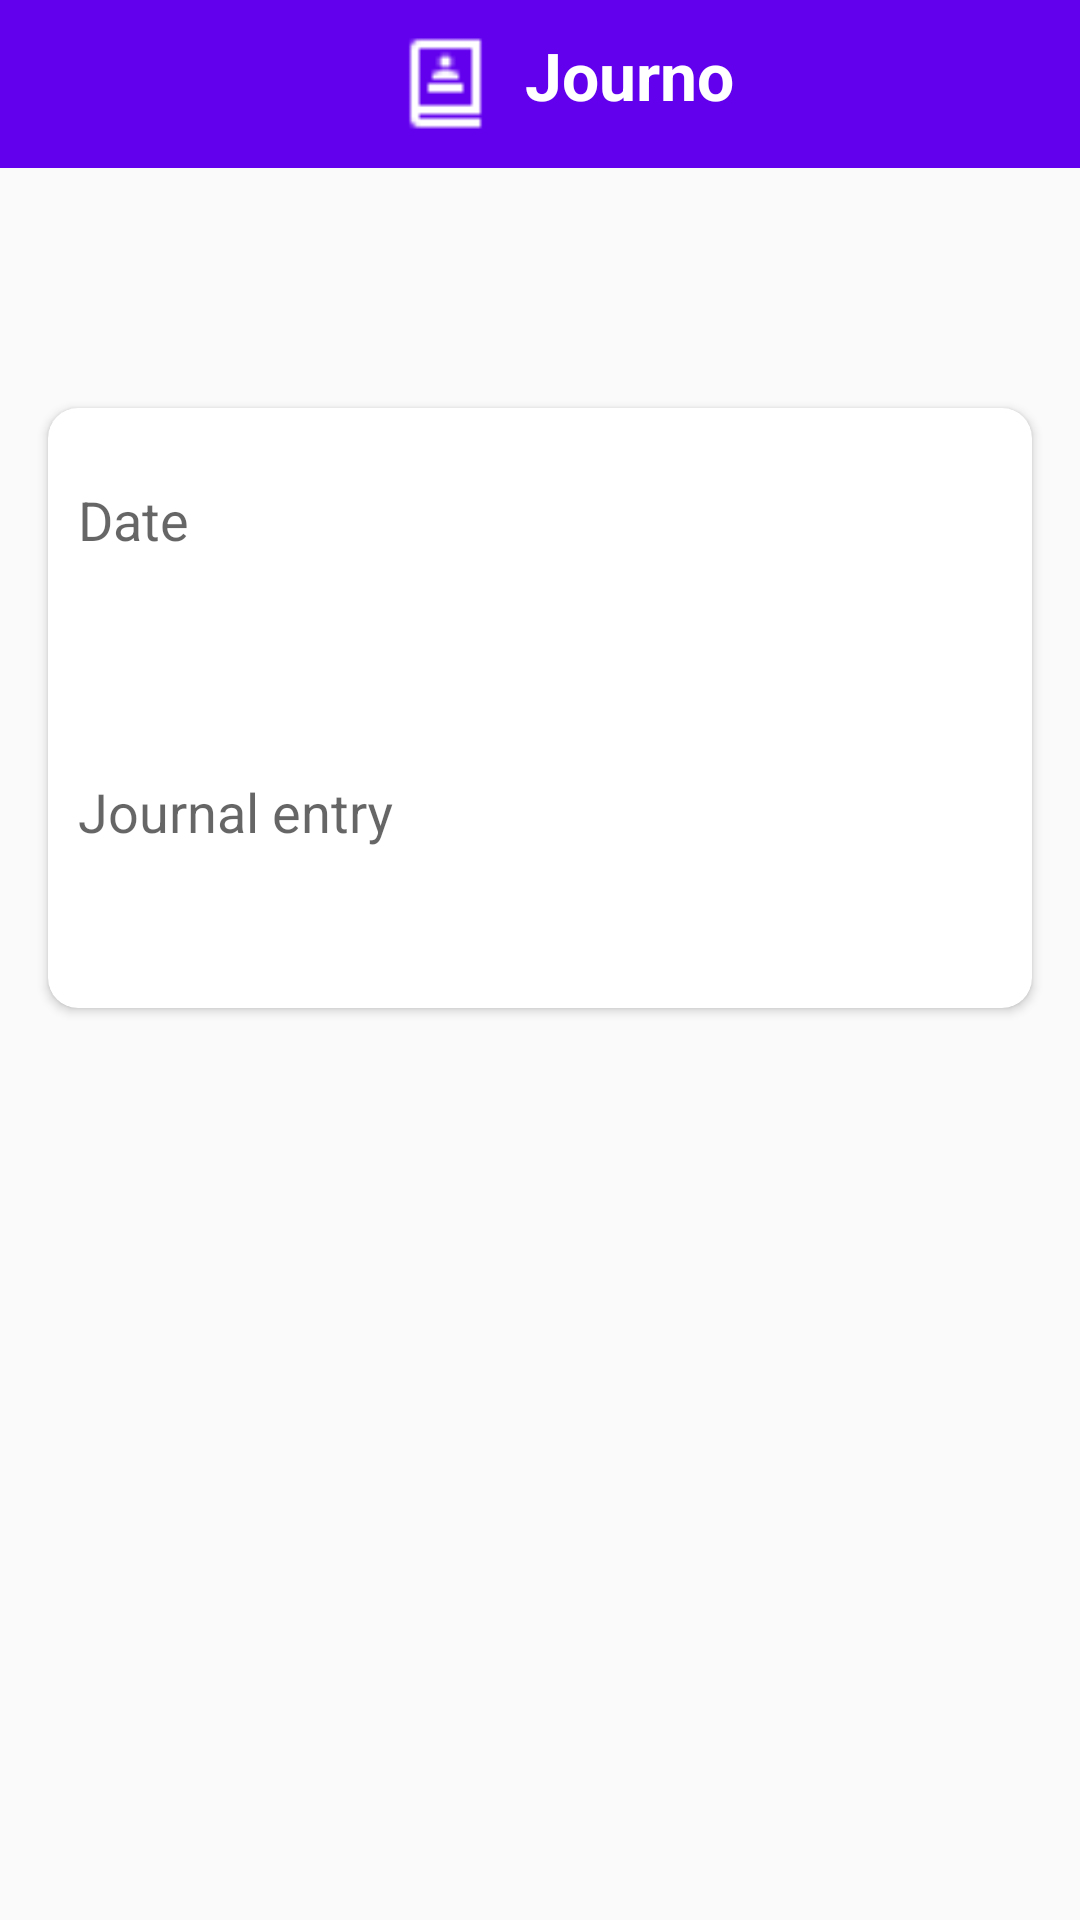

Locate icon controls on the screen. Image size 1080 x 1920, boxes as (x1, y1, x2, y2).
journal: (409, 38, 482, 129)
